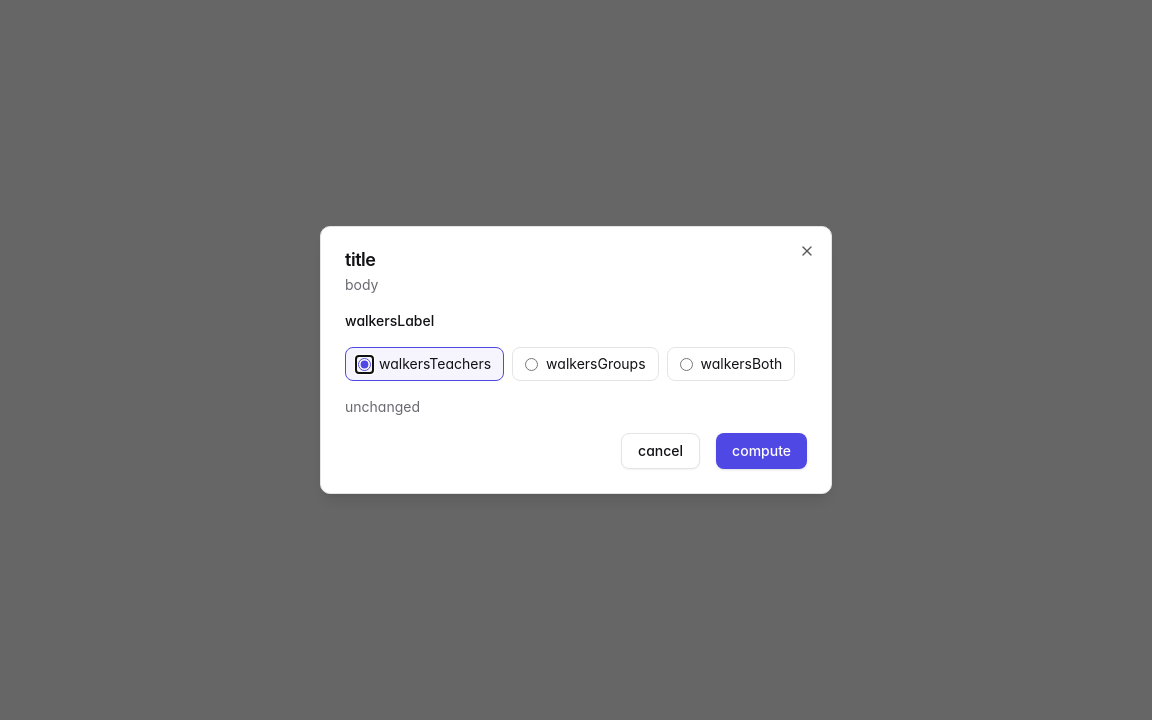
Test: the proposal › says which lessons were left alone because they already share a room
The image size is (1152, 720).
Click the button "compute". click: (762,451)
box: [716,433,807,469]
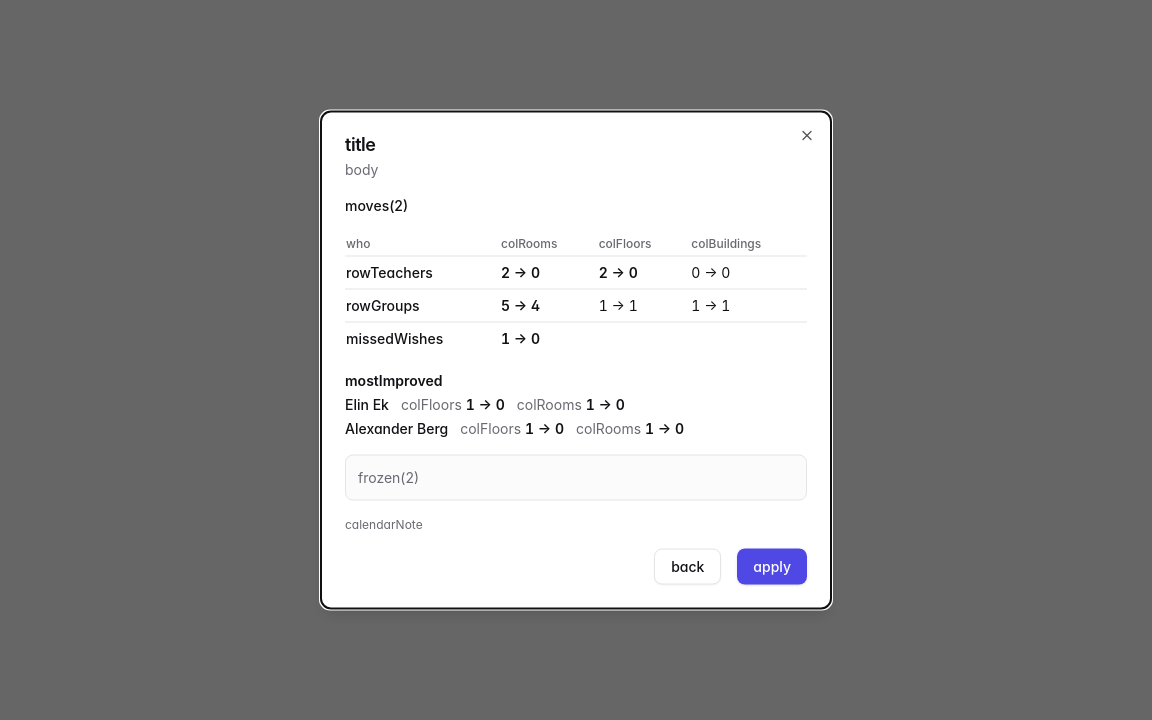
Check: the text "frozen(2)" is shown, box [345,454,807,500]
